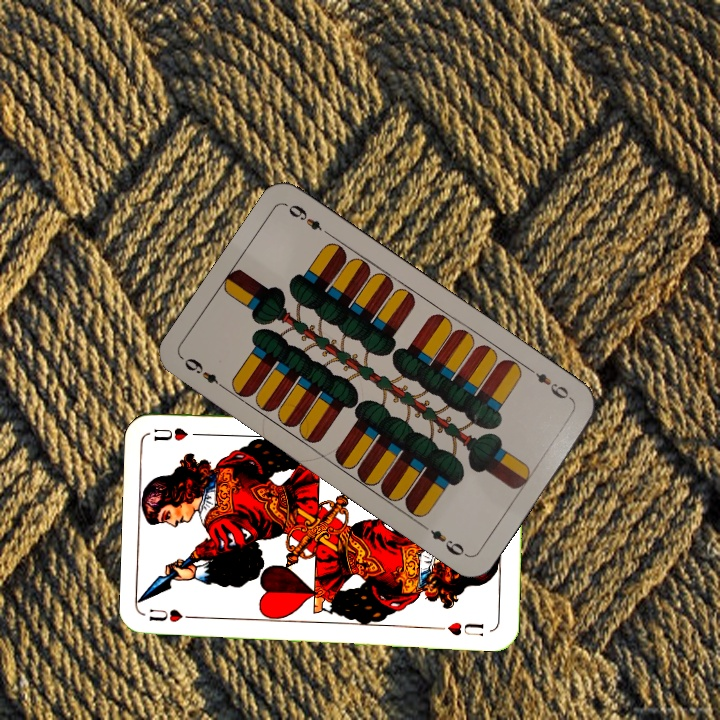E9: (524, 363, 575, 403), (180, 354, 231, 394)
HU: (145, 605, 203, 625)
